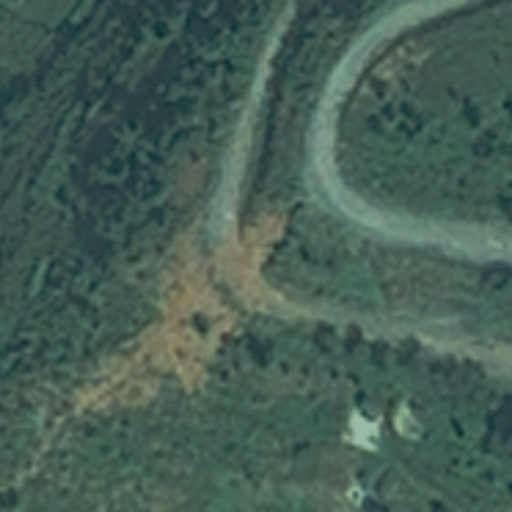landslide: (143, 213, 281, 389)
